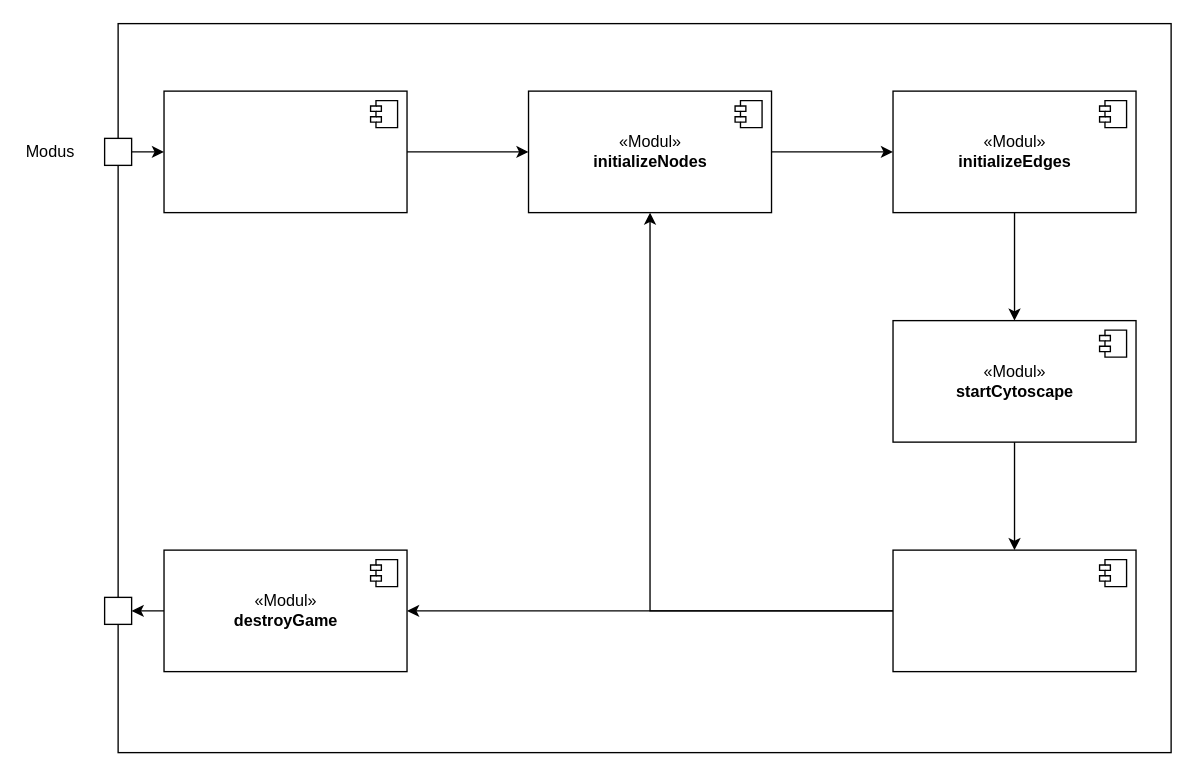
The diagram is 1195 pixels wide and 776 high, and some of its shapes have lost their labels. The centre of each missing label's shape, as x and y in pixels:
«Modul» Interface: pixel 285 151
«Modul» winConditions: pixel 1014 610
